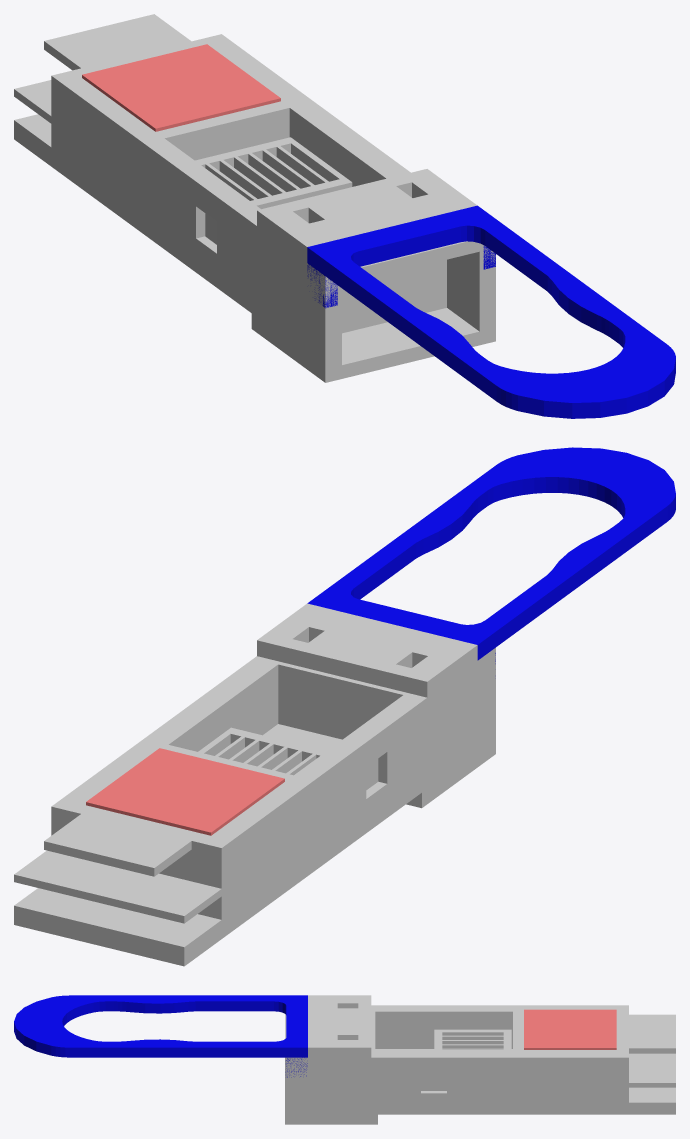
Rendered from QSFP_new 1.fbx.
3 views of the same model, one above another, from view 1: azimuth 30°, elevation 25°; view 2: azimuth 150°, elevation 25°; view 3: azimuth 270°, elevation 25° (orthographic). The views are drawn at different scales.
Parts seen in each view (by area): view 1: QSFP; view 2: QSFP; view 3: QSFP.
Boxes of the visible parts, x1=… form: QSFP: x1=14, y1=14, x2=675, y2=418; QSFP: x1=14, y1=447, x2=675, y2=966; QSFP: x1=14, y1=995, x2=675, y2=1124.
Size of the model in its own units: 11.15 by 59.78 by 7.66.
